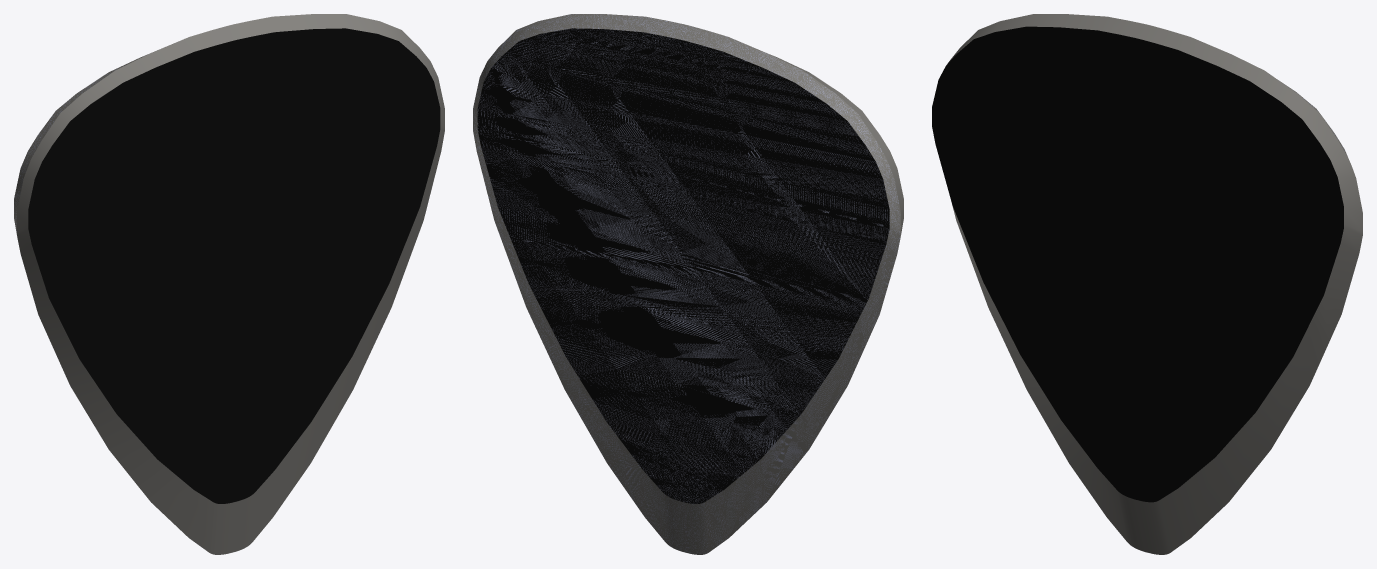
File: Pick.dae
The picture shows the model from 3 angles, left to right: view 1: azimuth 30°, elevation 25°; view 2: azimuth 150°, elevation 25°; view 3: azimuth 330°, elevation 25°; orthographic projection.
Visible parts, largest first — view 1: group_0 (×3); view 2: group_0 (×3); view 3: group_0 (×2).
Part boxes in pixels (x1,y1,x2,y2): group_0 (×3): (14, 14, 444, 554); group_0 (×3): (473, 14, 903, 554); group_0 (×2): (932, 14, 1362, 554).
Bounding box in the file's own units: 0.9503 × 0.0551 × 1.12.
